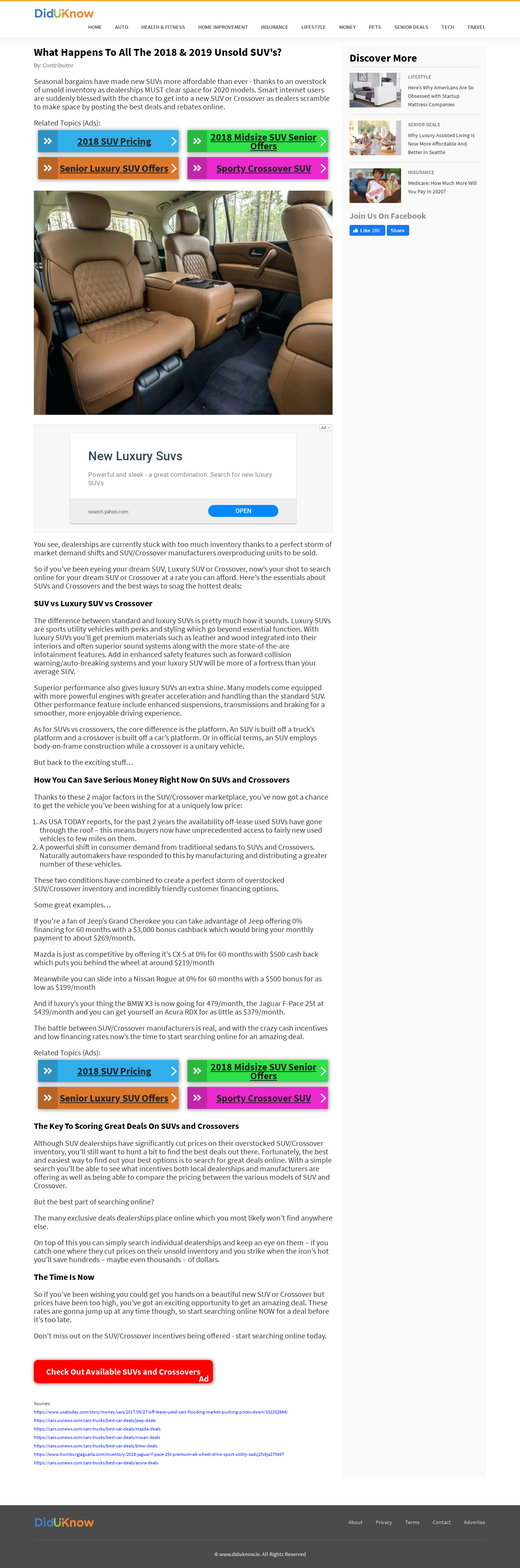fake_button: (23, 1351, 219, 1391), (184, 1053, 332, 1085), (29, 1088, 184, 1114), (184, 1086, 333, 1113), (29, 1058, 181, 1084), (202, 493, 291, 529)
